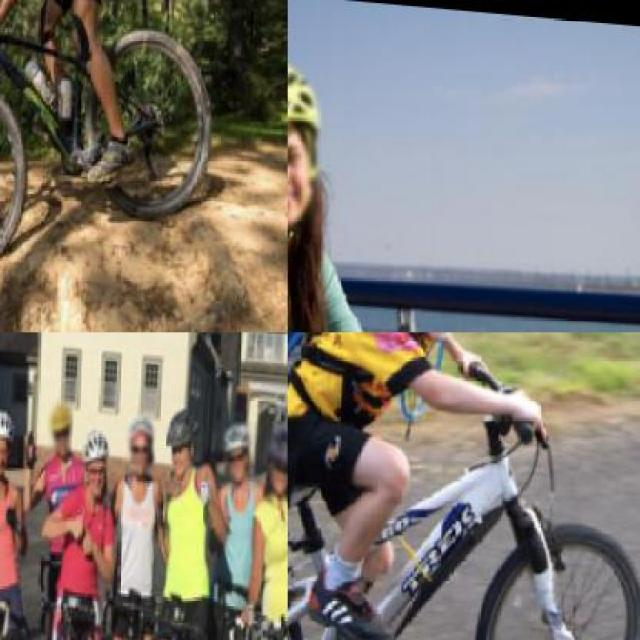With Helmet: (288, 56, 330, 232), (160, 394, 206, 474), (218, 410, 260, 484), (80, 416, 117, 496), (127, 402, 161, 471), (48, 392, 77, 450), (0, 394, 20, 474), (269, 410, 286, 504)
